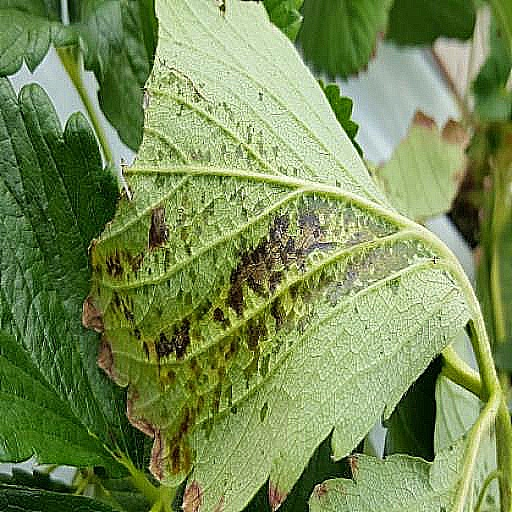Angular Leafspot: (41, 0, 430, 511), (35, 431, 206, 511)
